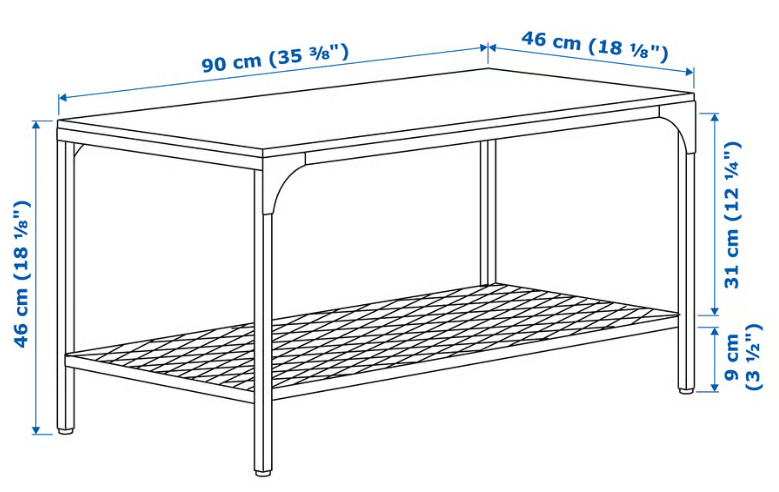table_legs: (254, 153, 306, 475), (659, 101, 696, 394), (57, 140, 84, 434), (480, 140, 496, 285)
table_shelf: (272, 283, 678, 400), (65, 323, 255, 403)
table_top: (57, 68, 695, 171)
